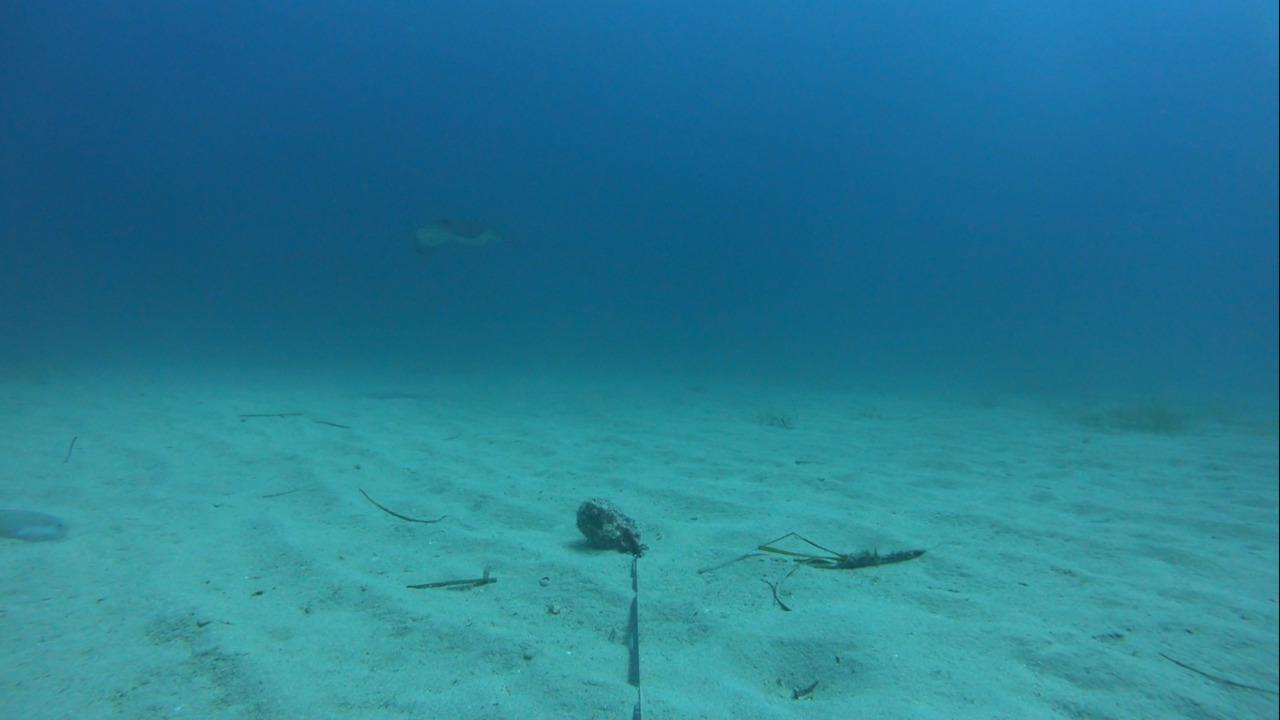myliobatis: (392, 209, 536, 261)
raor: (1, 504, 77, 550)
